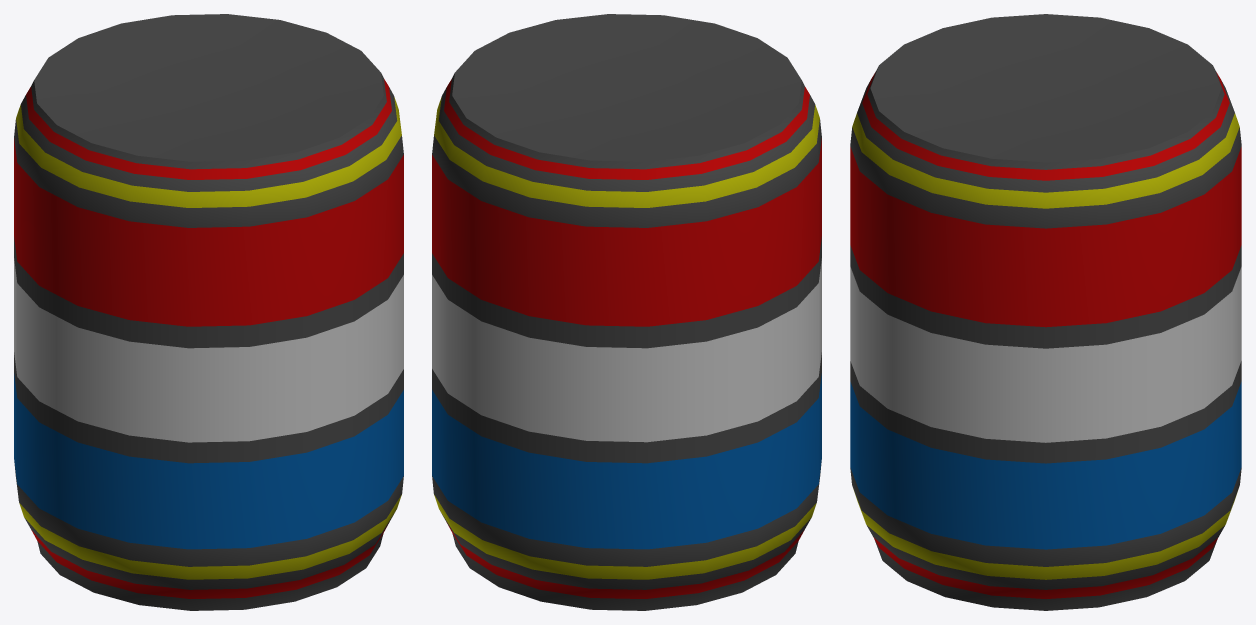
The model's file is CiderBarrel.fbx.
The picture shows the model from 3 angles, left to right: view 1: azimuth 30°, elevation 25°; view 2: azimuth 150°, elevation 25°; view 3: azimuth 270°, elevation 25°; orthographic projection.
Parts seen in each view (by area): view 1: CiderBarrel; view 2: CiderBarrel; view 3: CiderBarrel.
Part boxes in pixels (box(x1,y1,x2,y2)): CiderBarrel: box(14, 14, 403, 610); CiderBarrel: box(432, 14, 821, 610); CiderBarrel: box(850, 14, 1241, 610).
Bounding box in the file's own units: 47.33 × 60.04 × 47.33.
